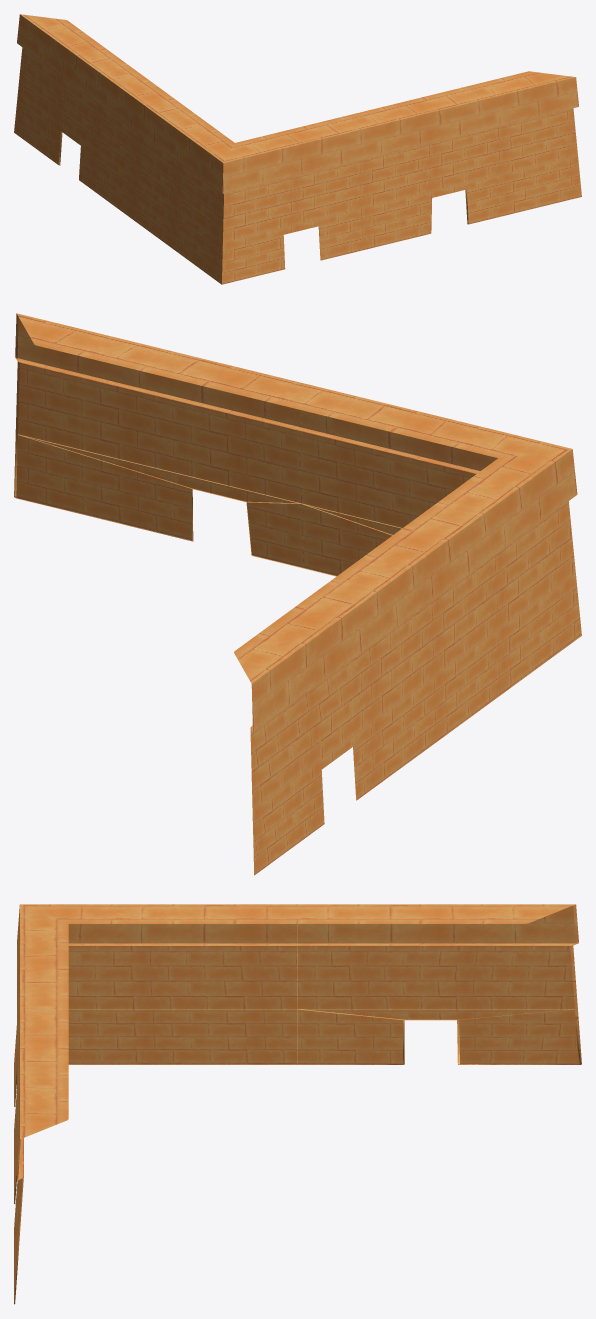
Rendered from pm-temple-floor-02-cut.001.glb.
3 renders of one model, top to bottom at view 1: azimuth 30°, elevation 25°; view 2: azimuth 150°, elevation 25°; view 3: azimuth 270°, elevation 25°, orthographic. The views are drawn at different scales.
Visible parts, largest first — view 1: TempleFloor02_Cut.001; view 2: TempleFloor02_Cut.001; view 3: TempleFloor02_Cut.001.
Part boxes in pixels (bbox=[...]): TempleFloor02_Cut.001: bbox=[14, 14, 581, 284]; TempleFloor02_Cut.001: bbox=[14, 313, 581, 875]; TempleFloor02_Cut.001: bbox=[14, 904, 581, 1304].
Size of the model in its own units: 54.81 by 17.32 by 54.78.
Materials: 2 (2 with a texture image).
